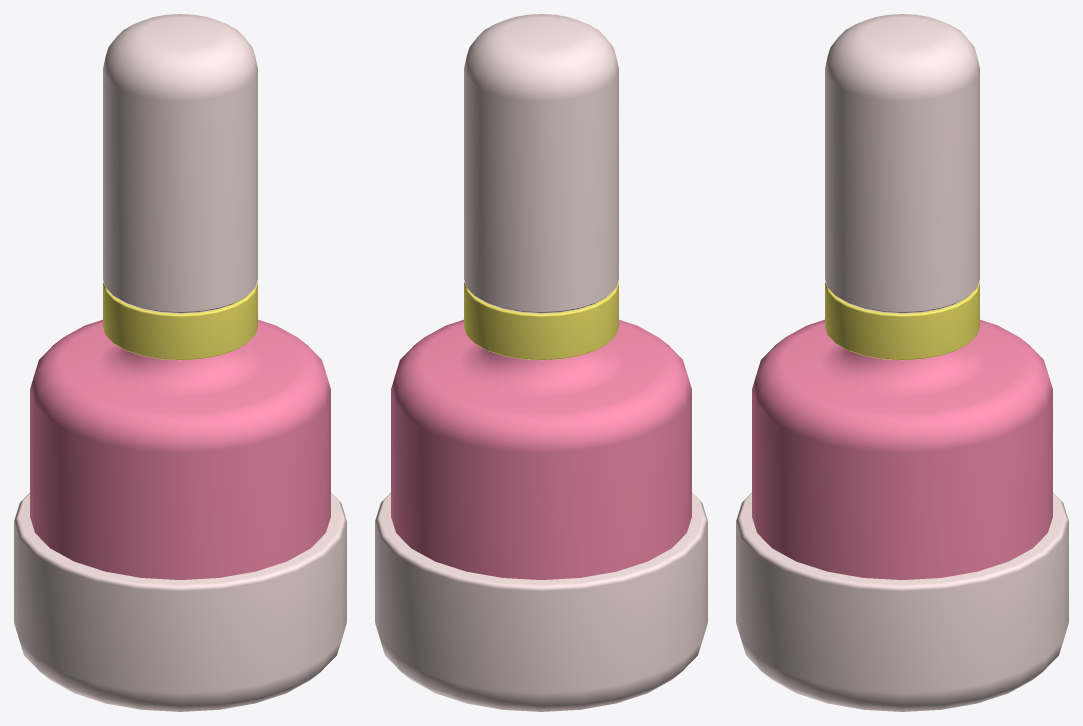
The model's file is Store_17_Nail_Varnish_3.glb.
3 renders of one model, left to right at view 1: azimuth 30°, elevation 25°; view 2: azimuth 150°, elevation 25°; view 3: azimuth 270°, elevation 25°, orthographic.
Parts seen in each view (by area): view 1: Store_17_Nail_Varnish_3; view 2: Store_17_Nail_Varnish_3; view 3: Store_17_Nail_Varnish_3.
Boxes of the visible parts, box(x1,y1,x2,y2) form: Store_17_Nail_Varnish_3: box(14, 14, 346, 711); Store_17_Nail_Varnish_3: box(375, 14, 707, 711); Store_17_Nail_Varnish_3: box(736, 14, 1068, 711).
Bounding box in the file's own units: 0.3261 × 0.6688 × 0.3261.
1 material, 1 textured.
